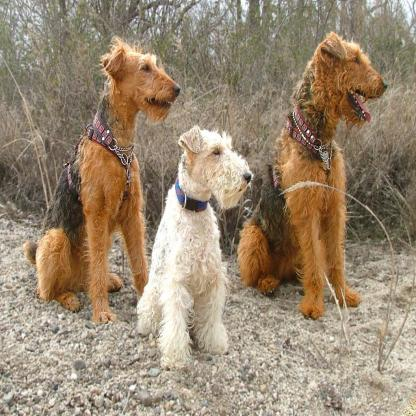Airedale Terrier: (276, 10, 395, 320), (51, 24, 184, 270), (137, 118, 265, 349)
